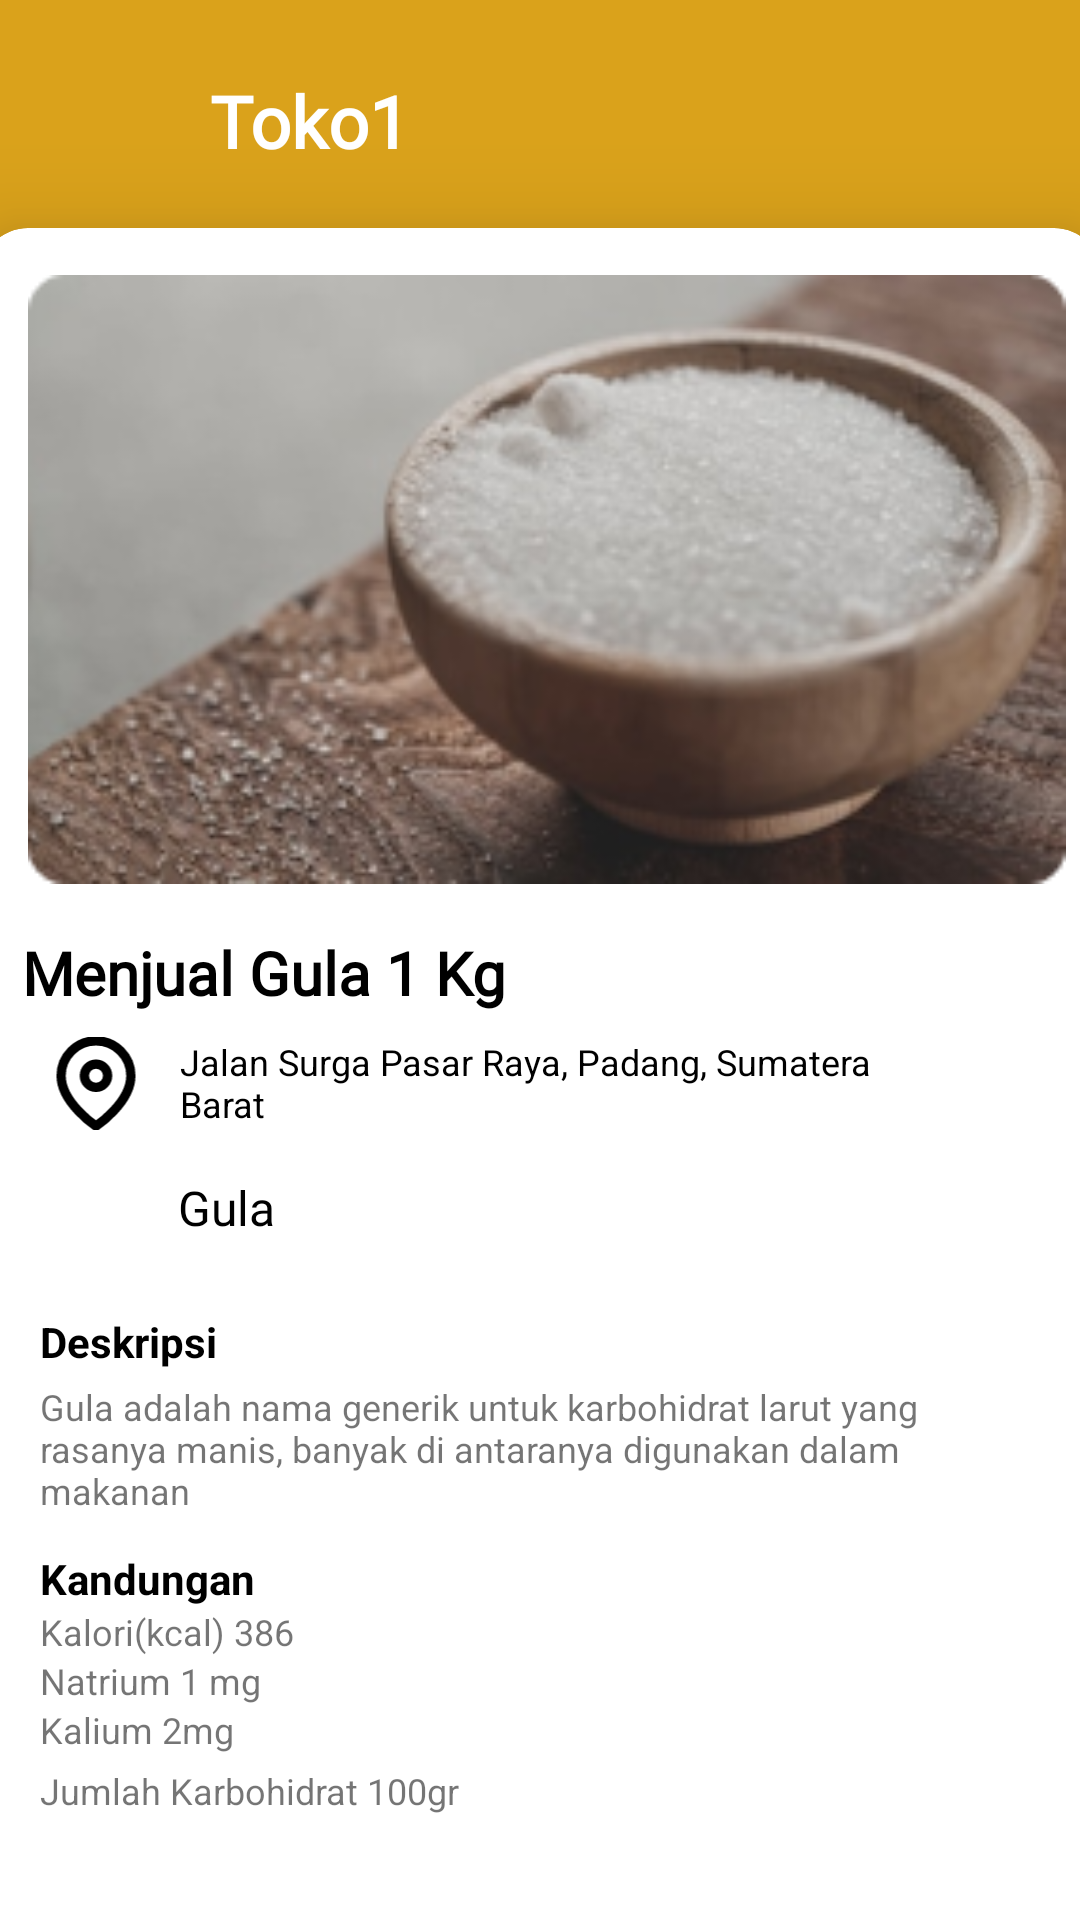

Where icons sit on this 1080x1920 app screen, as bbox(x1, y1, x2, y2):
map pin: bbox(56, 1037, 136, 1130)
